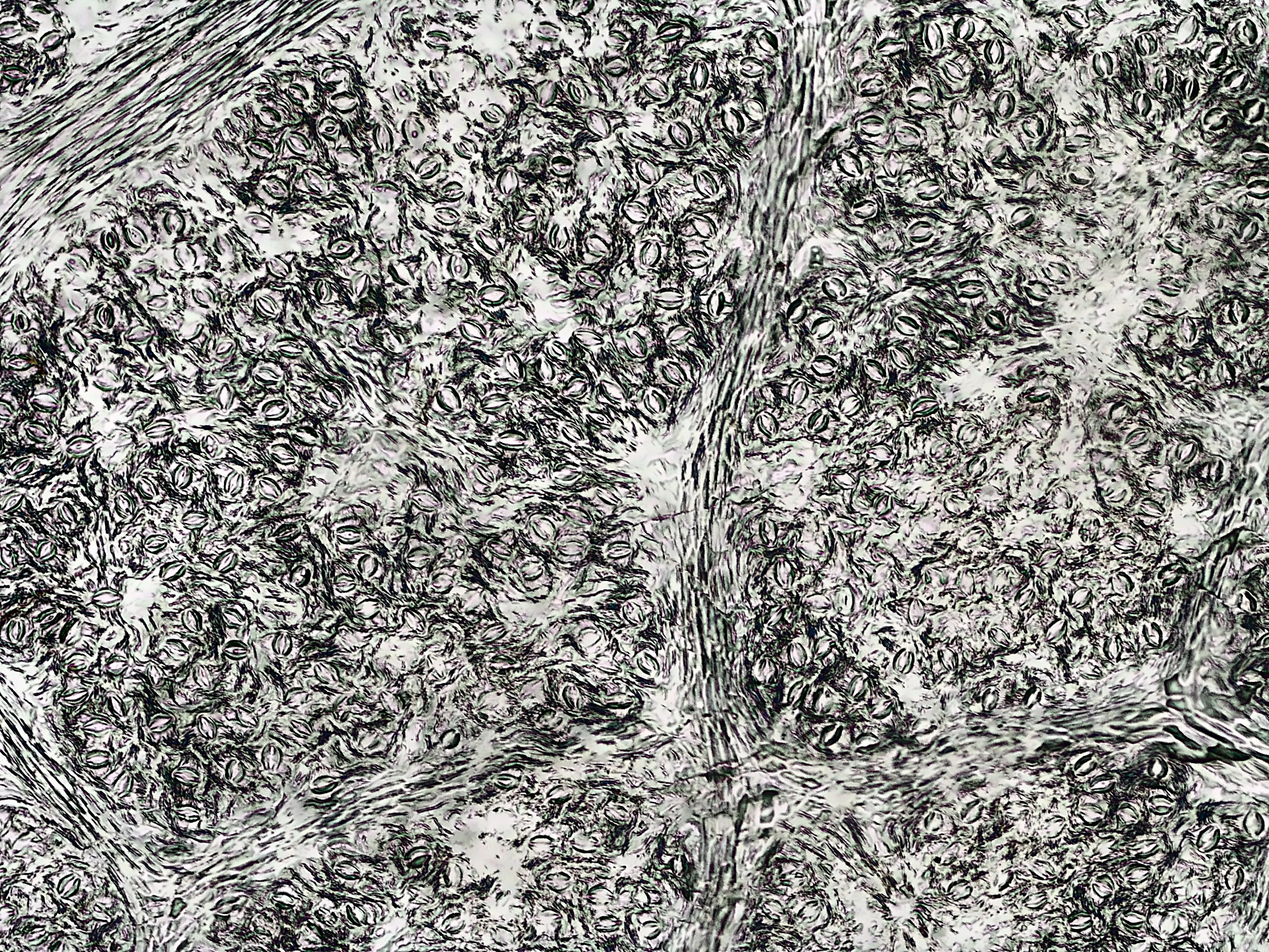stomata: (1221, 585, 1262, 619), (885, 814, 912, 858), (3, 344, 38, 377), (1236, 805, 1267, 842), (790, 896, 827, 926), (329, 502, 371, 528), (601, 19, 635, 51), (1172, 385, 1203, 420), (168, 804, 213, 828), (91, 628, 140, 650), (903, 83, 940, 111), (472, 226, 504, 257), (266, 881, 300, 910), (547, 462, 586, 487), (400, 879, 436, 906), (483, 652, 523, 676), (834, 148, 867, 177), (879, 150, 909, 180), (526, 513, 557, 542), (1194, 825, 1226, 853), (19, 421, 56, 445), (16, 921, 50, 947), (940, 489, 975, 514), (693, 169, 721, 200), (1223, 295, 1251, 326), (1065, 160, 1097, 187), (62, 434, 95, 460), (401, 844, 434, 870), (1044, 616, 1070, 649), (422, 27, 452, 55), (750, 655, 778, 685), (112, 491, 139, 522), (162, 204, 188, 236), (939, 59, 971, 85), (84, 13, 120, 36), (992, 89, 1017, 122), (313, 660, 346, 685), (475, 287, 514, 308), (555, 535, 589, 559), (212, 892, 246, 916), (407, 490, 444, 512), (1063, 2, 1091, 31), (1236, 18, 1264, 47), (653, 187, 680, 217), (399, 606, 426, 636), (328, 693, 358, 720), (1075, 803, 1106, 829), (828, 470, 863, 493), (948, 98, 973, 130), (944, 878, 976, 903), (574, 268, 610, 290), (922, 20, 946, 53), (567, 833, 603, 855), (388, 259, 416, 287), (1141, 623, 1170, 650), (1173, 15, 1199, 45), (1072, 658, 1109, 679), (7, 453, 38, 478), (252, 363, 285, 386), (652, 19, 685, 42), (301, 168, 329, 195), (252, 293, 280, 320), (640, 386, 667, 414), (59, 499, 86, 527), (1018, 417, 1047, 443), (688, 213, 718, 238), (1042, 258, 1072, 283), (557, 420, 591, 442), (90, 589, 124, 611), (687, 58, 710, 90), (621, 200, 653, 223), (738, 97, 770, 120), (593, 486, 625, 509), (868, 491, 895, 518), (922, 808, 949, 835), (121, 221, 147, 249), (635, 157, 663, 183), (599, 377, 627, 403), (436, 386, 462, 414), (1223, 67, 1251, 93), (480, 393, 513, 415), (1020, 112, 1045, 141), (1158, 561, 1187, 586), (621, 601, 650, 626), (435, 727, 464, 752), (679, 247, 709, 271), (331, 858, 361, 882), (526, 833, 556, 857), (98, 225, 121, 256), (328, 90, 359, 113), (268, 443, 299, 466), (786, 639, 809, 670), (241, 210, 273, 232), (652, 288, 684, 310), (737, 56, 769, 78), (170, 766, 202, 788), (1102, 634, 1124, 666), (637, 241, 663, 268), (318, 384, 345, 410), (966, 204, 992, 231), (811, 689, 837, 716), (818, 722, 845, 748), (983, 38, 1008, 66), (849, 196, 877, 221), (1130, 90, 1155, 118), (104, 691, 129, 719), (759, 897, 784, 925), (897, 119, 921, 148), (819, 277, 848, 301), (437, 911, 466, 935), (258, 400, 291, 421), (590, 654, 623, 675), (1007, 207, 1037, 230), (1113, 803, 1143, 826), (502, 351, 524, 382), (92, 370, 123, 392), (1201, 179, 1232, 201), (82, 716, 116, 736), (668, 122, 694, 148), (1202, 41, 1228, 67), (1203, 106, 1229, 132), (635, 651, 661, 677), (582, 232, 609, 257), (471, 461, 498, 486), (875, 267, 902, 292), (587, 110, 611, 138), (494, 430, 526, 451), (255, 477, 283, 501), (755, 27, 779, 55), (956, 279, 988, 300), (1024, 278, 1052, 302), (1204, 459, 1232, 483), (1138, 496, 1166, 520), (563, 503, 591, 527), (1089, 874, 1117, 898), (1066, 911, 1094, 935), (54, 874, 83, 897), (323, 237, 356, 257), (530, 22, 560, 44), (1124, 864, 1154, 886), (401, 115, 422, 146), (284, 131, 310, 156), (173, 245, 198, 271), (661, 361, 687, 386), (723, 106, 748, 132), (865, 358, 891, 383), (1173, 437, 1198, 463), (180, 607, 205, 633), (987, 625, 1012, 651), (63, 327, 87, 354), (810, 316, 837, 340), (572, 328, 606, 347), (875, 38, 909, 57), (624, 331, 647, 359), (847, 674, 870, 702), (977, 686, 1000, 714), (1067, 752, 1095, 775), (143, 420, 175, 440), (532, 709, 564, 729), (585, 887, 617, 907), (497, 167, 519, 196), (605, 539, 634, 561), (4, 616, 26, 645), (1028, 856, 1057, 878), (124, 324, 154, 345), (893, 314, 923, 335), (932, 329, 962, 350), (866, 441, 896, 462), (485, 538, 515, 559), (355, 728, 385, 749), (542, 785, 577, 803), (30, 395, 63, 414), (1017, 362, 1050, 381), (58, 687, 91, 706), (533, 80, 558, 105), (563, 377, 589, 401), (380, 327, 406, 351), (143, 663, 167, 689), (892, 648, 916, 674), (459, 319, 486, 342), (755, 411, 778, 438), (985, 138, 1008, 165), (755, 517, 778, 544), (0, 492, 27, 515), (381, 689, 404, 716), (260, 743, 283, 770), (958, 800, 985, 823), (373, 124, 395, 152), (642, 79, 670, 101), (787, 377, 809, 405), (807, 408, 829, 436), (1020, 168, 1042, 196), (404, 546, 432, 568), (104, 654, 132, 676), (194, 662, 216, 690), (218, 640, 252, 658), (437, 181, 466, 202), (1240, 178, 1269, 199), (157, 561, 186, 582), (543, 871, 572, 892), (1024, 386, 1056, 405), (244, 138, 274, 158), (370, 179, 400, 199), (452, 135, 476, 160), (890, 345, 915, 369), (212, 549, 236, 574), (235, 703, 259, 728), (458, 588, 483, 612), (605, 805, 635, 825), (261, 176, 287, 199), (348, 274, 371, 300), (1176, 318, 1199, 344), (269, 631, 295, 654), (172, 685, 198, 708), (1158, 909, 1181, 935), (9, 308, 31, 335), (414, 157, 441, 179), (544, 339, 571, 361), (837, 395, 864, 417), (1147, 796, 1180, 814), (330, 146, 361, 165), (592, 914, 623, 933), (448, 252, 469, 280), (664, 325, 692, 346), (352, 599, 380, 620), (564, 682, 585, 710), (573, 627, 601, 648), (318, 63, 347, 83), (106, 429, 135, 449), (1048, 485, 1072, 509), (61, 654, 93, 672), (601, 692, 633, 710), (135, 476, 160, 499), (948, 158, 973, 181), (1154, 67, 1177, 92), (195, 714, 218, 739), (425, 654, 448, 679), (785, 682, 810, 705), (96, 304, 118, 330), (916, 179, 942, 201), (908, 219, 934, 241), (1134, 32, 1156, 58), (475, 689, 501, 711), (1225, 865, 1247, 891), (910, 397, 940, 416), (32, 1, 59, 22), (254, 105, 281, 126), (316, 117, 343, 138), (1093, 51, 1114, 78), (905, 597, 925, 625), (427, 573, 455, 593), (1089, 773, 1117, 793), (1064, 133, 1095, 151), (81, 750, 112, 768), (11, 75, 35, 98), (785, 299, 809, 322), (985, 308, 1008, 332), (964, 455, 988, 478), (1098, 451, 1121, 475), (59, 619, 82, 643), (1020, 685, 1044, 708), (177, 322, 206, 341), (1110, 533, 1139, 552), (795, 540, 824, 559), (802, 594, 831, 613), (179, 510, 208, 529), (146, 714, 175, 733), (283, 687, 312, 706), (49, 16, 74, 38), (288, 716, 313, 738), (938, 647, 960, 672), (548, 223, 569, 249), (214, 383, 235, 409), (144, 364, 170, 385), (859, 77, 885, 98), (954, 15, 975, 41), (1079, 518, 1100, 544), (1036, 549, 1062, 570), (600, 60, 632, 77), (531, 909, 563, 926), (143, 294, 173, 312), (290, 426, 320, 444), (857, 116, 884, 136), (811, 356, 838, 376), (1238, 216, 1258, 243), (956, 568, 976, 595), (775, 558, 793, 588), (273, 522, 300, 542), (330, 574, 357, 594), (1156, 277, 1184, 296), (1101, 483, 1129, 502), (1002, 800, 1030, 819), (764, 605, 787, 628), (430, 66, 452, 90), (1111, 572, 1135, 594), (357, 555, 381, 577), (287, 565, 311, 587), (991, 869, 1015, 891), (855, 733, 886, 750), (927, 439, 952, 460), (220, 607, 245, 628), (433, 206, 462, 224), (1240, 143, 1269, 161), (548, 156, 574, 176), (1142, 295, 1168, 315), (1211, 360, 1231, 386), (1146, 471, 1172, 491), (36, 608, 62, 628), (941, 844, 967, 864), (1131, 840, 1163, 856), (333, 526, 363, 543), (480, 102, 502, 125), (871, 699, 894, 721), (346, 901, 368, 924), (867, 563, 890, 585), (266, 257, 290, 278), (223, 471, 244, 495), (225, 759, 246, 783), (569, 82, 589, 107), (513, 210, 538, 230), (834, 588, 854, 613), (274, 340, 305, 356), (1122, 427, 1148, 446), (311, 906, 337, 925), (444, 862, 463, 888), (1107, 400, 1129, 422), (1013, 586, 1035, 608), (63, 253, 86, 274), (192, 286, 215, 307), (1071, 588, 1094, 609), (145, 532, 168, 553), (208, 341, 238, 357), (200, 434, 220, 458), (519, 559, 543, 579), (164, 639, 188, 659), (310, 776, 338, 793), (1164, 232, 1185, 254), (814, 637, 836, 658), (131, 259, 158, 276), (313, 280, 332, 304), (173, 464, 192, 488), (1207, 206, 1226, 230), (480, 623, 505, 641), (115, 772, 133, 797), (670, 852, 688, 877), (1117, 912, 1147, 927), (644, 58, 670, 75), (1243, 98, 1264, 119), (285, 84, 307, 104), (1179, 76, 1199, 98), (213, 234, 232, 257), (962, 527, 985, 546), (639, 920, 662, 939), (709, 290, 725, 317), (586, 411, 613, 427), (1149, 755, 1167, 779), (959, 423, 979, 444), (536, 357, 554, 380), (425, 262, 438, 293), (392, 81, 411, 102), (37, 542, 58, 561), (494, 772, 518, 788), (1024, 894, 1048, 910), (41, 31, 62, 49), (17, 16, 40, 31), (6, 64, 25, 81), (19, 55, 36, 72), (1, 22, 18, 39), (33, 52, 49, 69), (24, 39, 39, 56)
